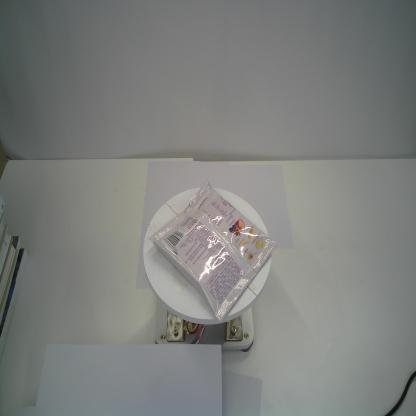Instant Drink: (148, 178, 278, 322)
